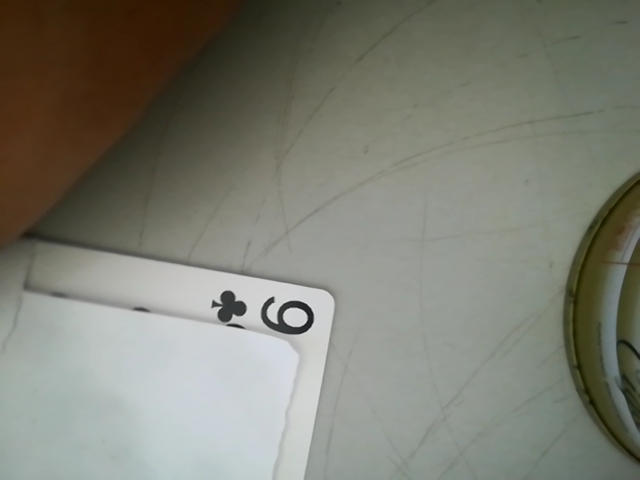mh 9: (197, 281, 332, 345)
